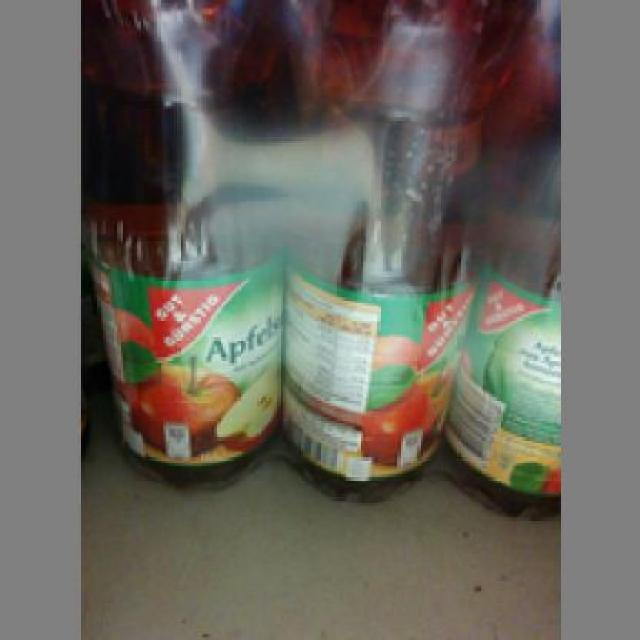Juice: (280, 3, 480, 500), (85, 6, 278, 488), (446, 14, 554, 514)
